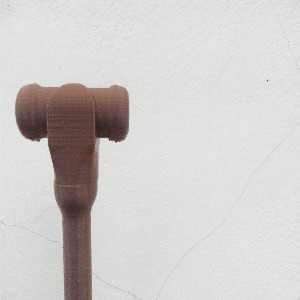palu: (14, 82, 131, 300)
